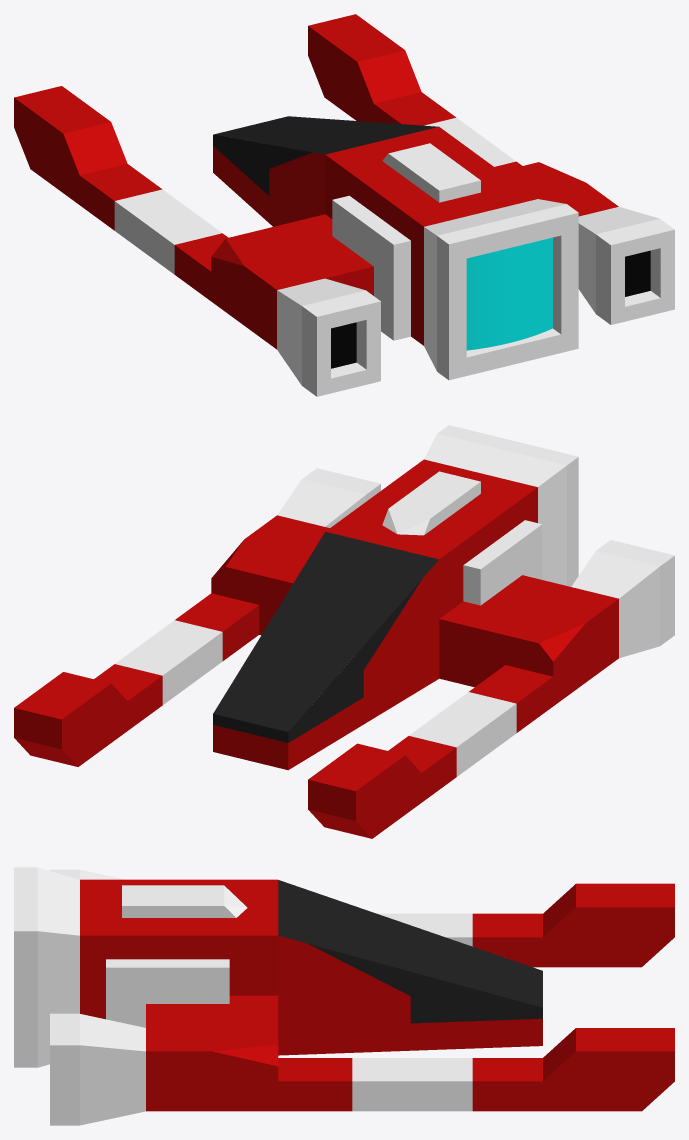
Rendered from DefaultModel.dae.
The picture shows the model from 3 angles, top to bottom: view 1: azimuth 30°, elevation 25°; view 2: azimuth 150°, elevation 25°; view 3: azimuth 270°, elevation 25°; orthographic projection.
Visible parts, largest first — view 1: group_0 (×14); view 2: group_0 (×11); view 3: group_0 (×11).
Part boxes in pixels (bbox=[...]): group_0 (×14): bbox=[14, 14, 674, 396]; group_0 (×11): bbox=[14, 425, 674, 838]; group_0 (×11): bbox=[14, 867, 674, 1125].
Bounding box in the file's own units: 20.14 × 32.04 × 7.6.
